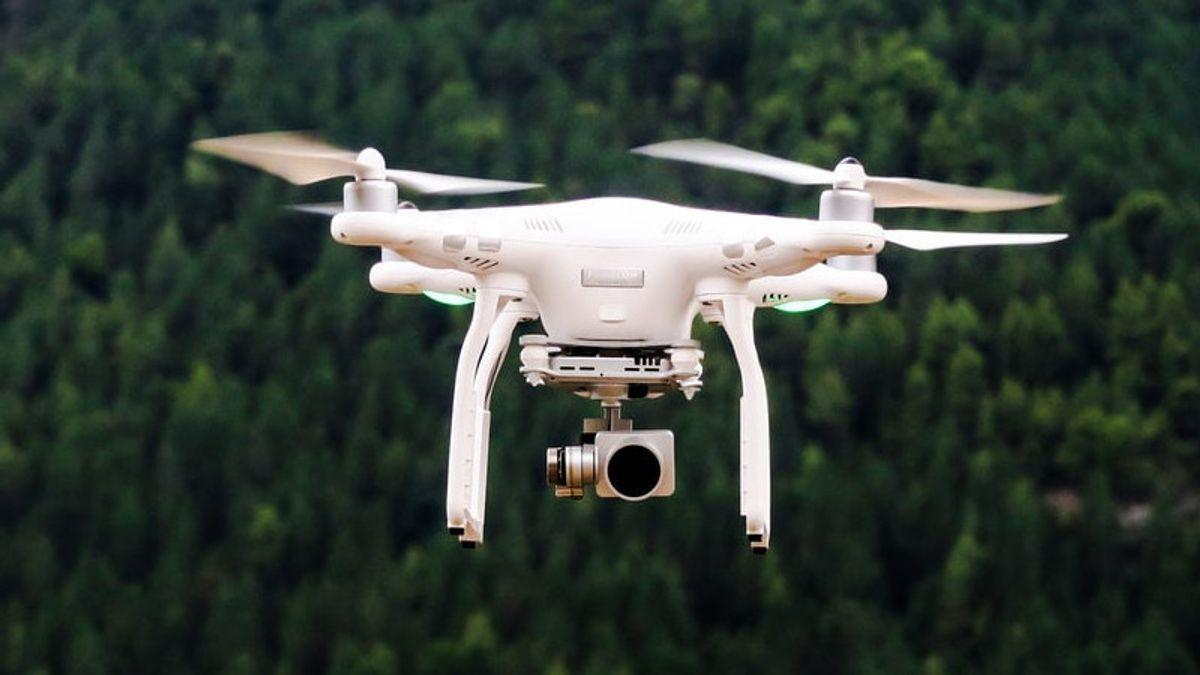drone: (175, 81, 1103, 578)
